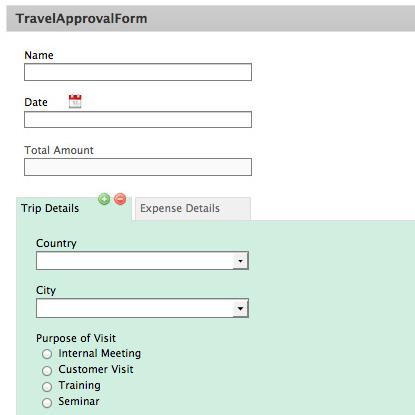field: (35, 297, 249, 320), (23, 61, 254, 82), (23, 110, 253, 131), (35, 249, 249, 271), (23, 157, 253, 177)
field_with_label: (21, 96, 256, 133), (22, 144, 254, 179), (33, 285, 251, 322), (21, 50, 255, 83), (33, 237, 251, 272)
radio: (42, 365, 53, 378), (41, 348, 53, 359), (41, 381, 52, 393), (42, 397, 53, 408)
radio_with_label: (39, 345, 141, 361), (39, 362, 135, 378), (38, 379, 103, 394), (38, 395, 99, 410)
